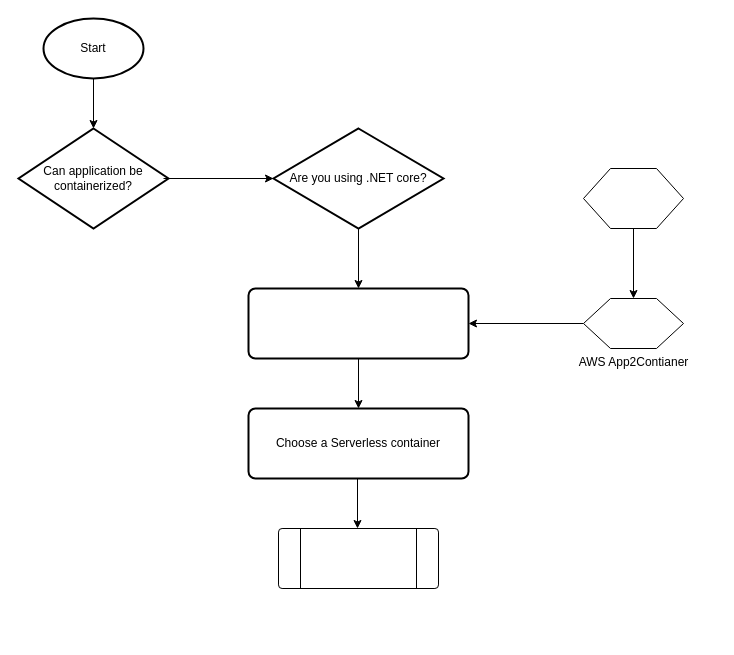
This 734x655 diagram has some shape labels left out. Here are the shapes that lost their labels. From the top down, the centre of each, then its label:
[633,198]: AWS Porting Assistant for .NET
[358,323]: Choose a Linux container
[358,558]: Aws Fargate with Amazon ECS managed Linux contianer
